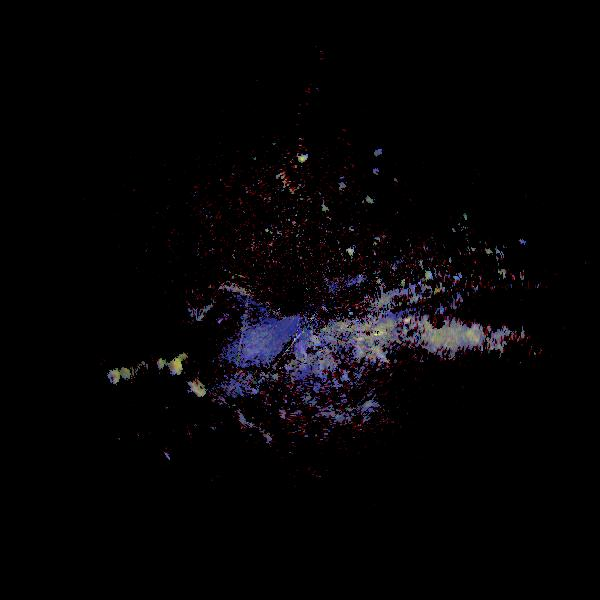roost: (168, 358, 186, 376), (190, 380, 208, 398), (108, 371, 120, 383), (377, 150, 383, 156)
